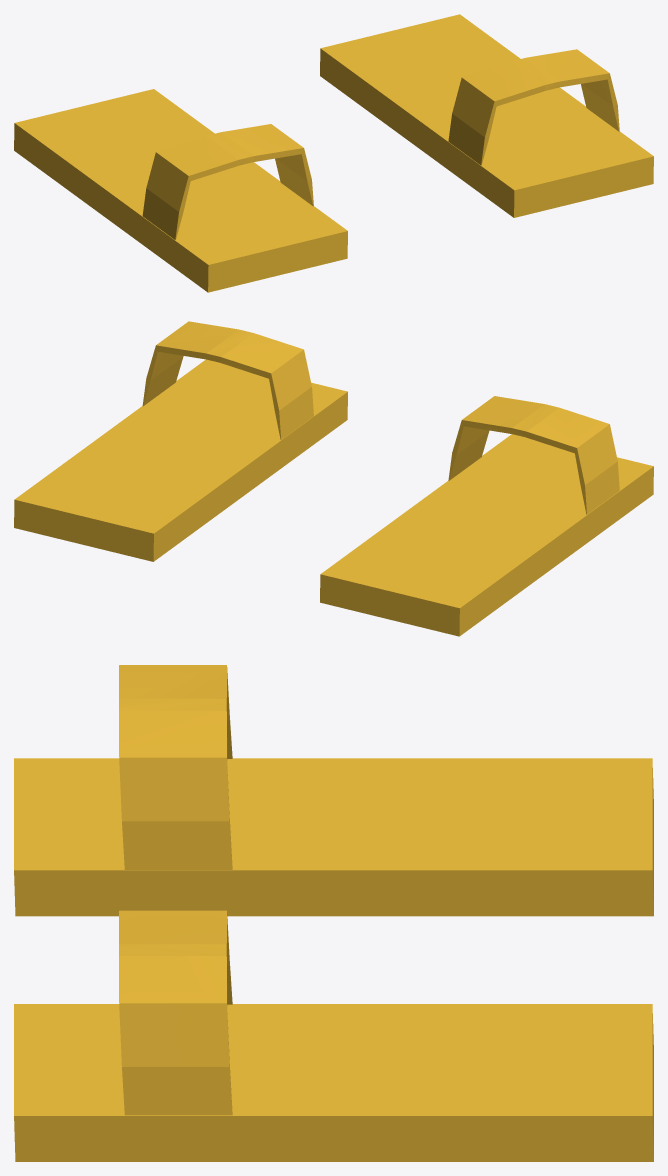
The model's file is Base_Flipflop2.fbx.
The picture shows the model from 3 angles, top to bottom: view 1: azimuth 30°, elevation 25°; view 2: azimuth 150°, elevation 25°; view 3: azimuth 270°, elevation 25°; orthographic projection. The views are drawn at different scales.
Parts seen in each view (by area): view 1: Right__Flipflop.001, Left__Flipflop.002; view 2: Right__Flipflop.001, Left__Flipflop.002; view 3: Left__Flipflop.002, Right__Flipflop.001.
Part boxes in pixels (<box>): Right__Flipflop.001: <box>14,89,347,292</box>; Left__Flipflop.002: <box>320,14,653,217</box>; Right__Flipflop.001: <box>320,396,653,636</box>; Left__Flipflop.002: <box>14,321,347,561</box>; Left__Flipflop.002: <box>14,910,653,1161</box>; Right__Flipflop.001: <box>14,665,653,916</box>.
Bounding box in the file's own units: 56.63 × 11.5 × 42.83.
1 material, 1 textured.
